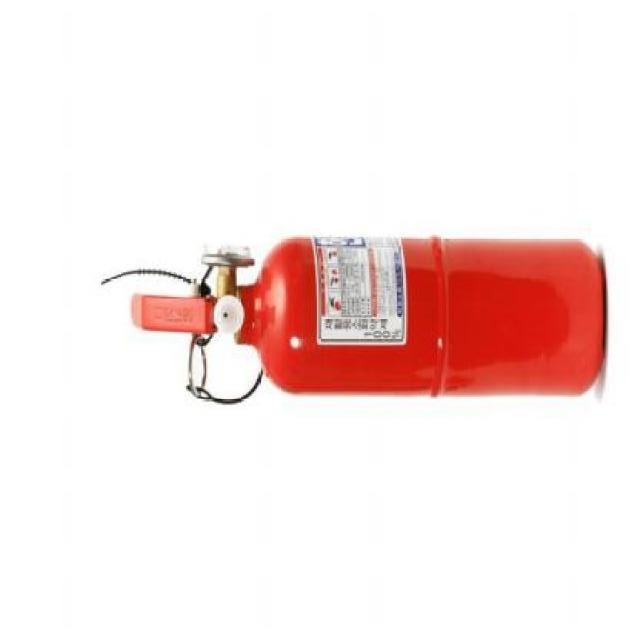fire extinguisher: (130, 233, 607, 399)
